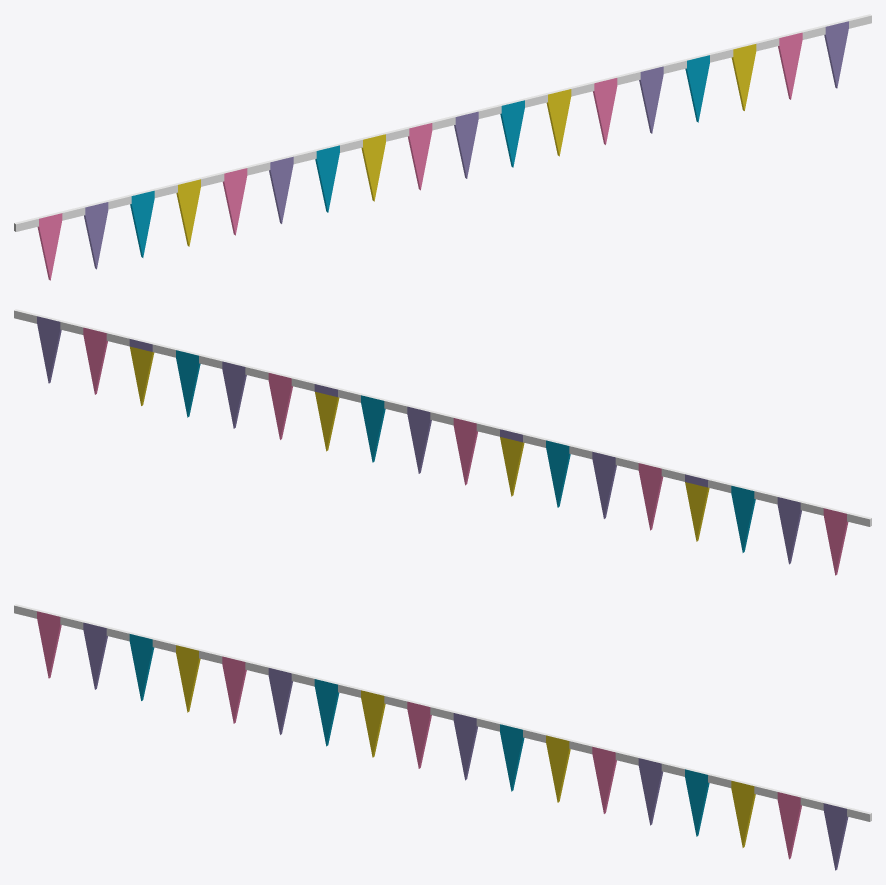
The model's file is banderitas.fbx.
3 renders of one model, top to bottom at view 1: azimuth 30°, elevation 25°; view 2: azimuth 150°, elevation 25°; view 3: azimuth 330°, elevation 25°, orthographic.
Visible parts, largest first — view 1: Cube; view 2: Cube; view 3: Cube.
Part boxes in pixels (x1=…): Cube: x1=14, y1=14, x2=871, y2=280; Cube: x1=14, y1=309, x2=871, y2=575; Cube: x1=14, y1=604, x2=871, y2=870.
Size of the model in its own units: 6014 by 436 by 23.62.
